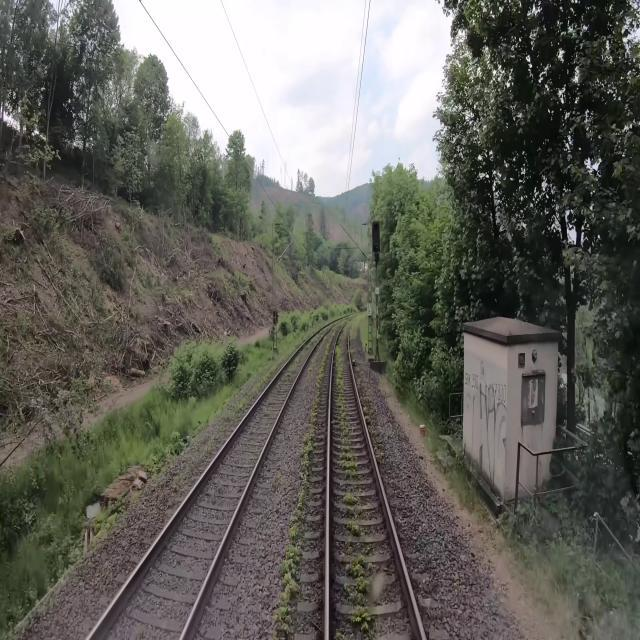Plant: (274, 325, 339, 639), (334, 344, 358, 479), (341, 557, 377, 636), (272, 468, 286, 491), (347, 519, 362, 537), (343, 493, 359, 505), (335, 631, 346, 639)
